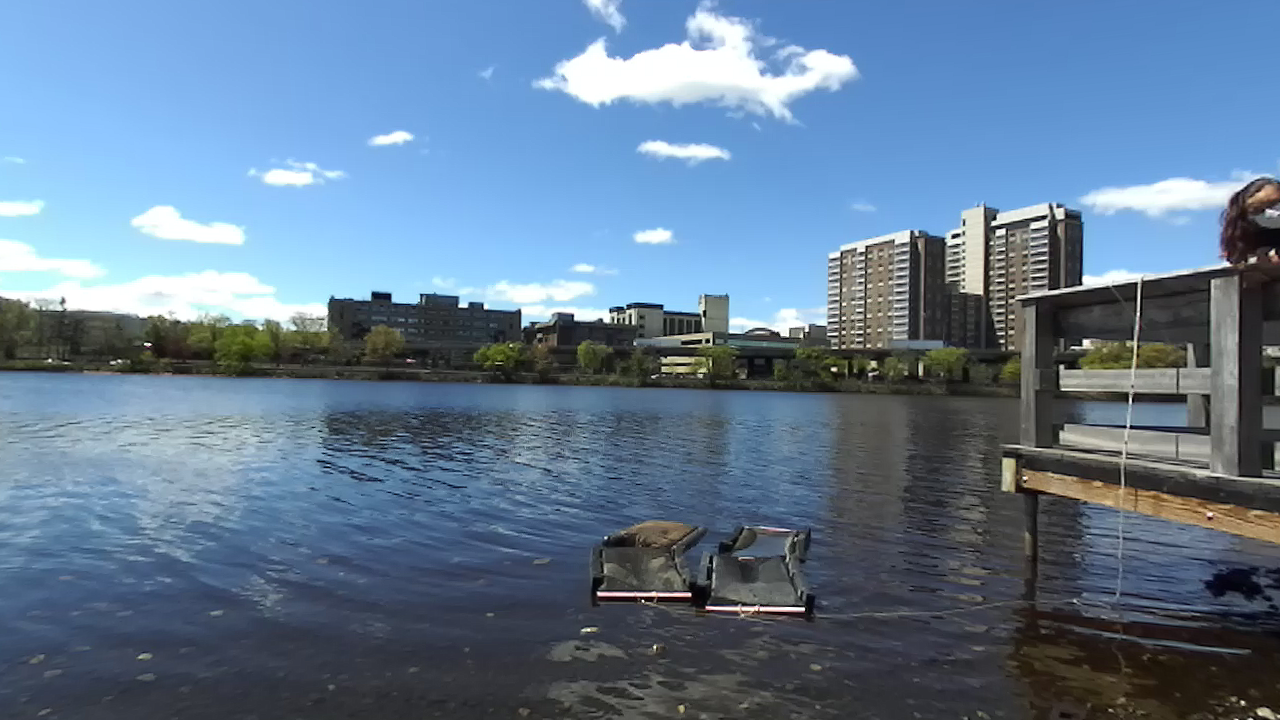bag: (698, 552, 816, 613), (591, 546, 694, 599), (602, 518, 709, 548), (721, 523, 812, 555)
